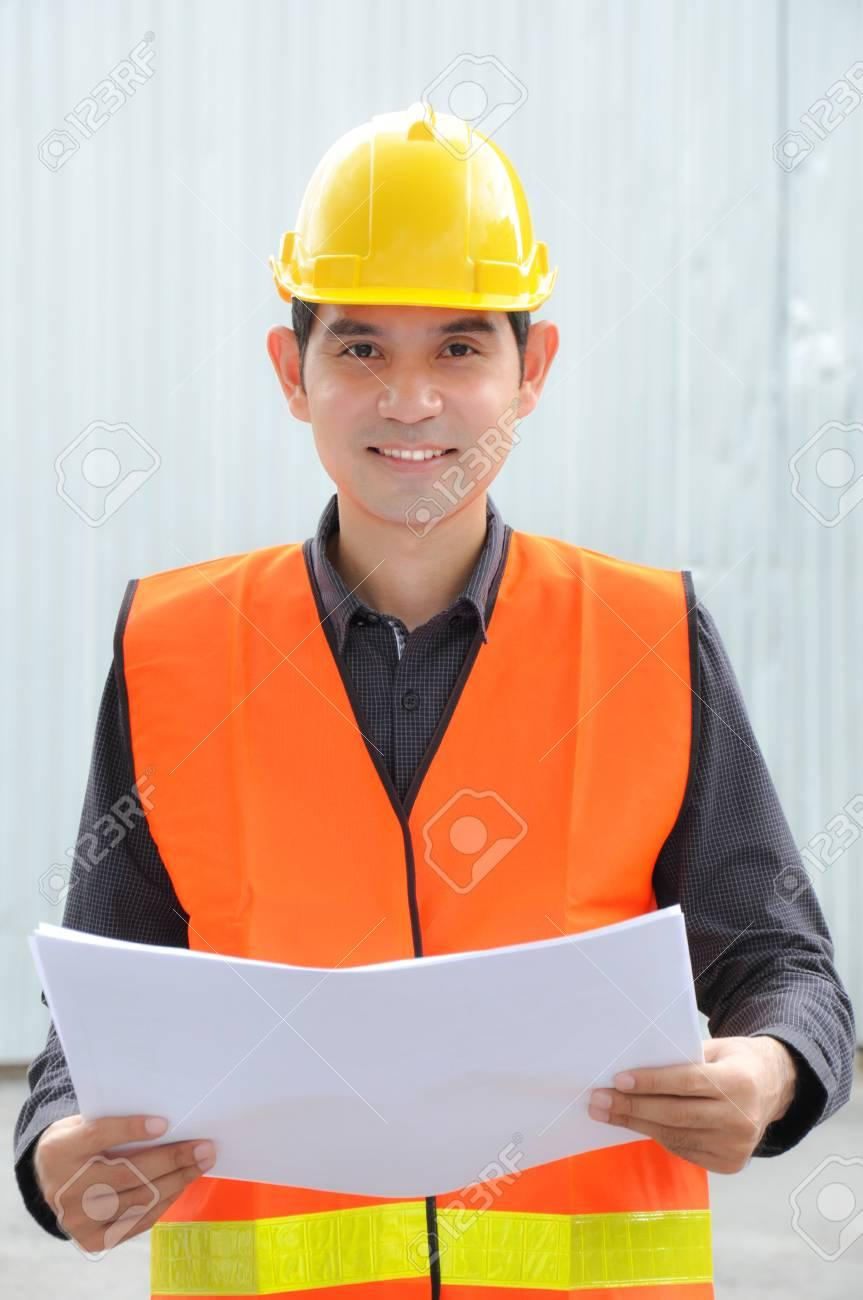helmet: (261, 105, 559, 317)
